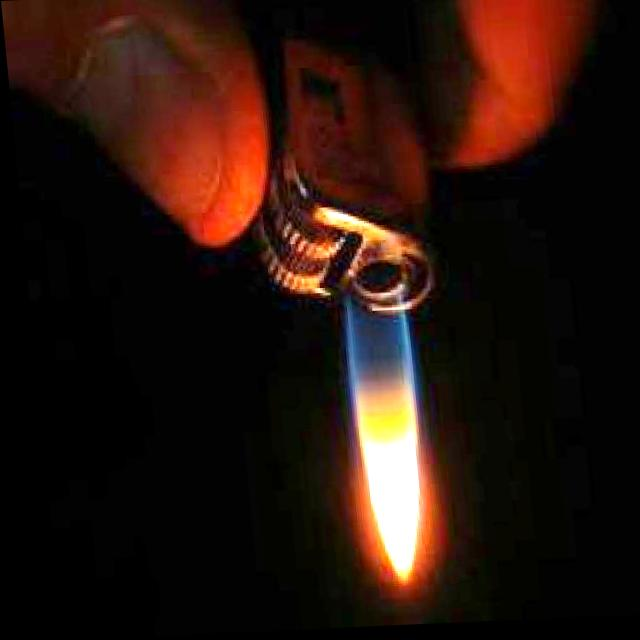Fire: (335, 290, 418, 586)
